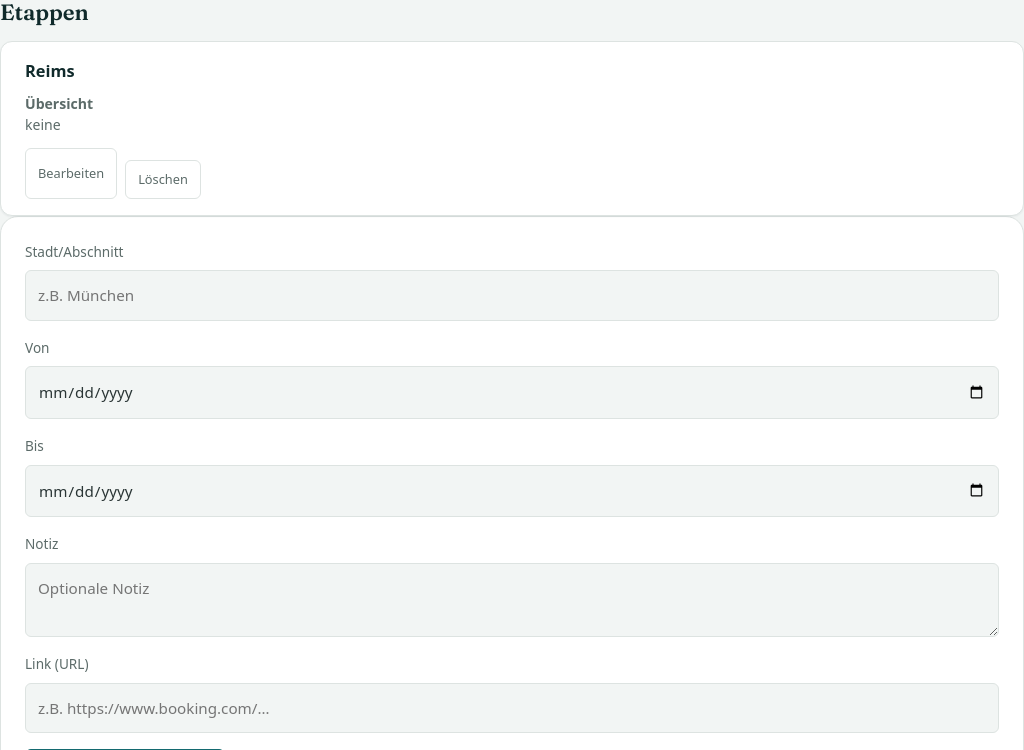
Etappen loeschen › Nutzerpfad: Loeschen -> Rueckfrage bestaetigen -> Etappe ist weg
Expected: the text "Reims" is shown, [25,58,74,85]
Click the button "Löschen": (163, 179) [125,160,201,199]
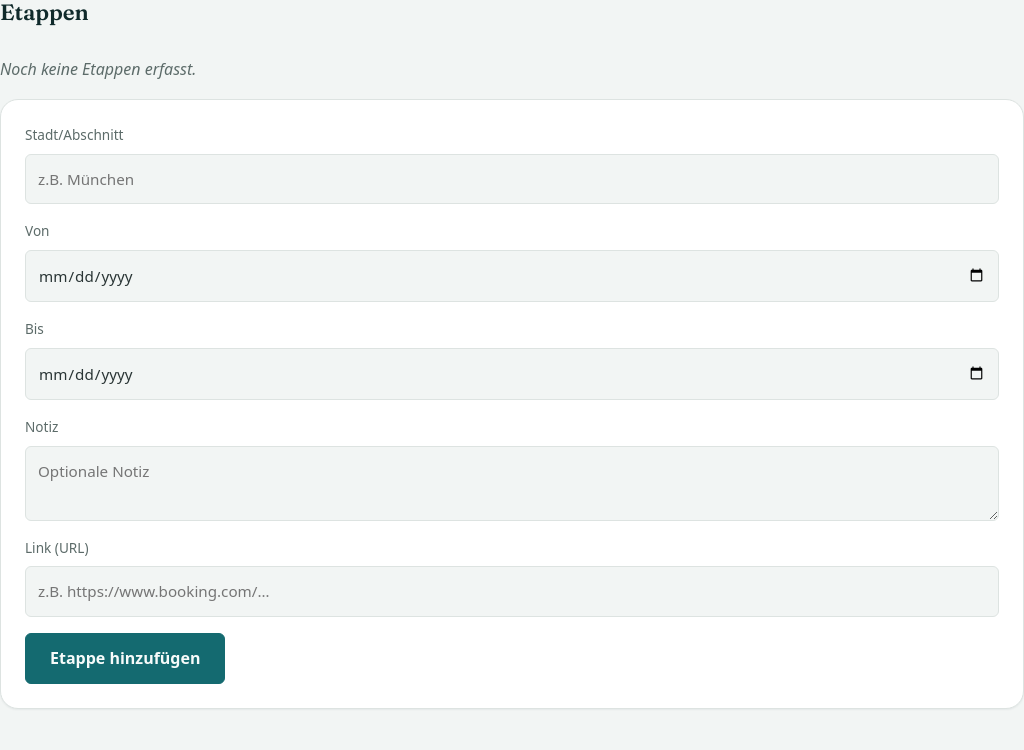
Now the text "Reims" is gone
Now the text "Noch keine Etappen erfasst." is shown, box [0,58,196,80]
